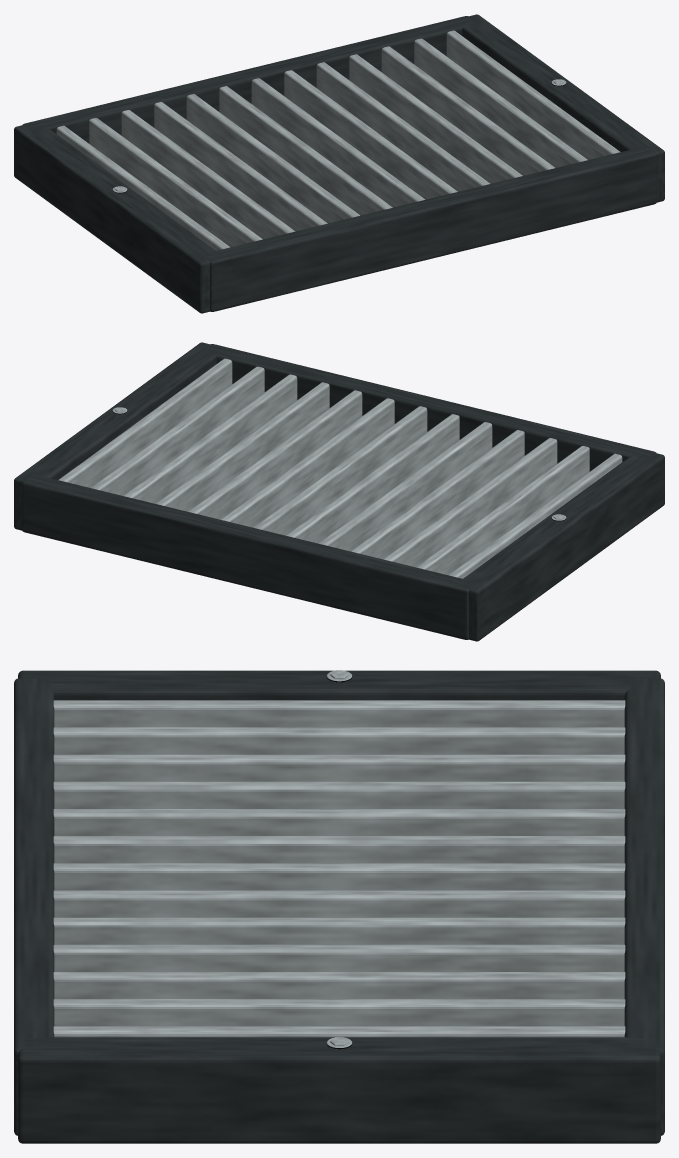
File: GR_DrainageGrate_03.glb
3 renders of one model, top to bottom at view 1: azimuth 30°, elevation 25°; view 2: azimuth 150°, elevation 25°; view 3: azimuth 270°, elevation 25°, orthographic. The views are drawn at different scales.
Visible parts, largest first — view 1: Static; view 2: Static; view 3: Static.
Part boxes in pixels (left/top/right/bottom): Static: left=14, top=14, right=664, bottom=313; Static: left=14, top=342, right=664, bottom=641; Static: left=14, top=670, right=664, bottom=1143.
Size of the model in its own units: 1.14 by 0.1286 by 0.81.
Materials: 1 (1 with a texture image).
